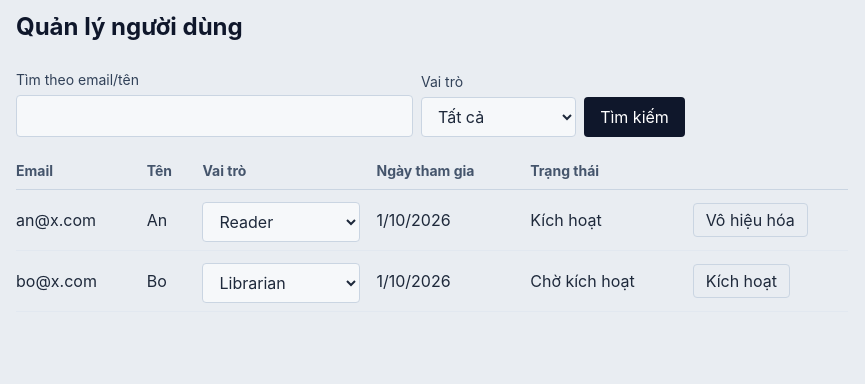
Test: Users › disables an active account
Click the button with aria-label "Vô hiệu hóa an@x.com".
click(750, 220)  # box left=693, top=203, right=808, bottom=237
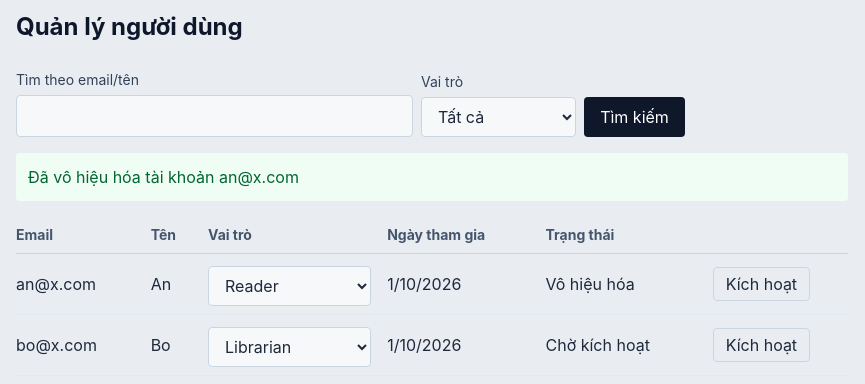
expect the message reads "Đã vô hiệu hóa tài khoản an@x.com": met, box left=28, top=167, right=299, bottom=187
expect the button with aria-label "Kích hoạt an@x.com" is shown: met, box left=713, top=267, right=810, bottom=301
